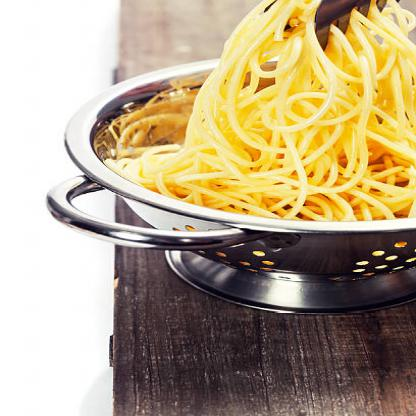Noodles: (101, 0, 415, 222)
